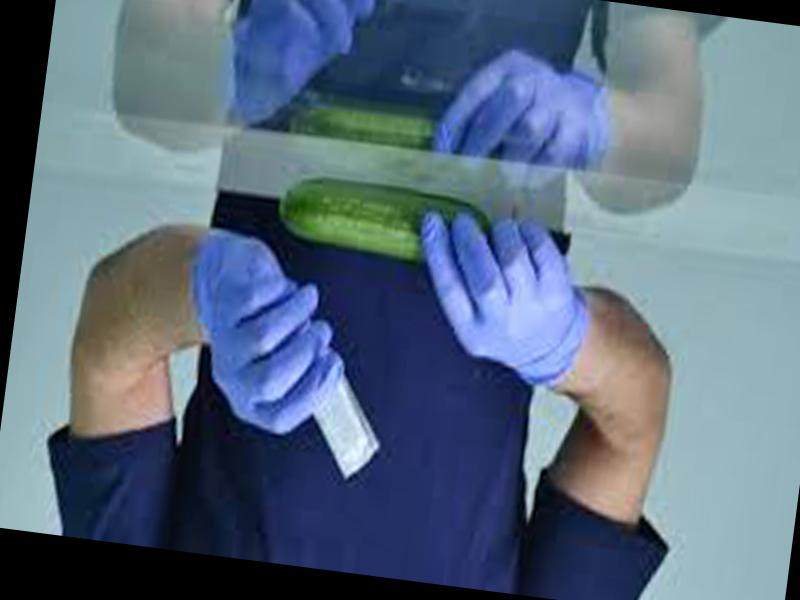Cucumber: (274, 171, 492, 269)
